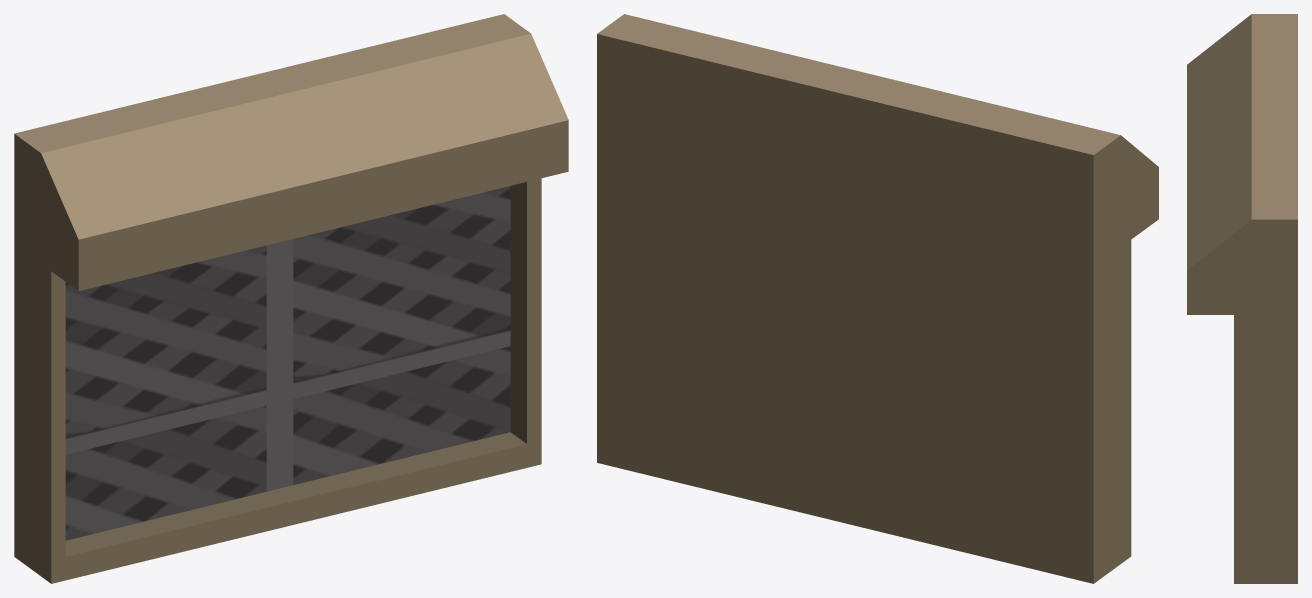
File: Window_B11.fbx
3 renders of one model, left to right at view 1: azimuth 30°, elevation 25°; view 2: azimuth 150°, elevation 25°; view 3: azimuth 270°, elevation 25°, orthographic. The views are drawn at different scales.
Parts seen in each view (by area): view 1: Window_B11; view 2: Window_B11; view 3: Window_B11.
Boxes of the visible parts, x1=… form: Window_B11: x1=14, y1=14, x2=568, y2=583; Window_B11: x1=597, y1=14, x2=1158, y2=583; Window_B11: x1=1187, y1=14, x2=1297, y2=583.
Size of the model in its own units: 134 by 111 by 30.53.
Materials: 1 (1 with a texture image).
